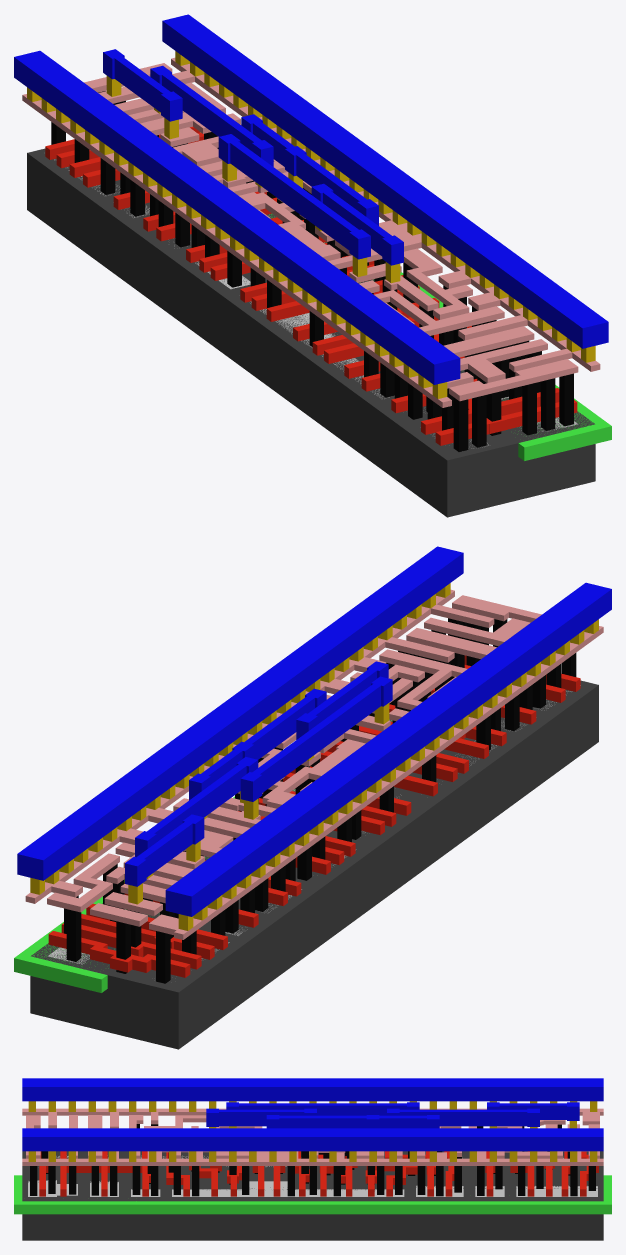
File: sky130_fd_sc_hd__sdfsbp_1.obj
The picture shows the model from 3 angles, top to bottom: view 1: azimuth 30°, elevation 25°; view 2: azimuth 150°, elevation 25°; view 3: azimuth 270°, elevation 25°; orthographic projection. The views are drawn at different scales.
Visible parts, largest first — view 1: metal1, subs, li, licon, poly, mcon, nwell, diff; view 2: metal1, subs, li, poly, licon, mcon, nwell; view 3: metal1, subs, li, nwell, poly, licon, mcon, tap.
Part boxes in pixels (x1,y1,x2,y2): metal1: (14,14,608,384); subs: (27,148,595,517); li: (22,57,600,407); licon: (51,91,573,451); poly: (45,126,577,445); mcon: (27,51,595,398); nwell: (200,132,611,460); diff: (54,159,488,448); metal1: (17,546,611,916); subs: (30,680,598,1049); li: (25,589,603,939); poly: (48,655,580,977); licon: (64,618,576,983); mcon: (30,583,598,930); nwell: (14,719,392,992); metal1: (22,1078,603,1151); subs: (22,1151,603,1240); li: (22,1108,603,1165); nwell: (14,1175,611,1214); poly: (39,1151,598,1196); licon: (30,1124,595,1196); mcon: (28,1101,597,1161); tap: (28,1180,597,1196).
Size of the model in its own units: 3.2 by 2.74 by 13.72.
